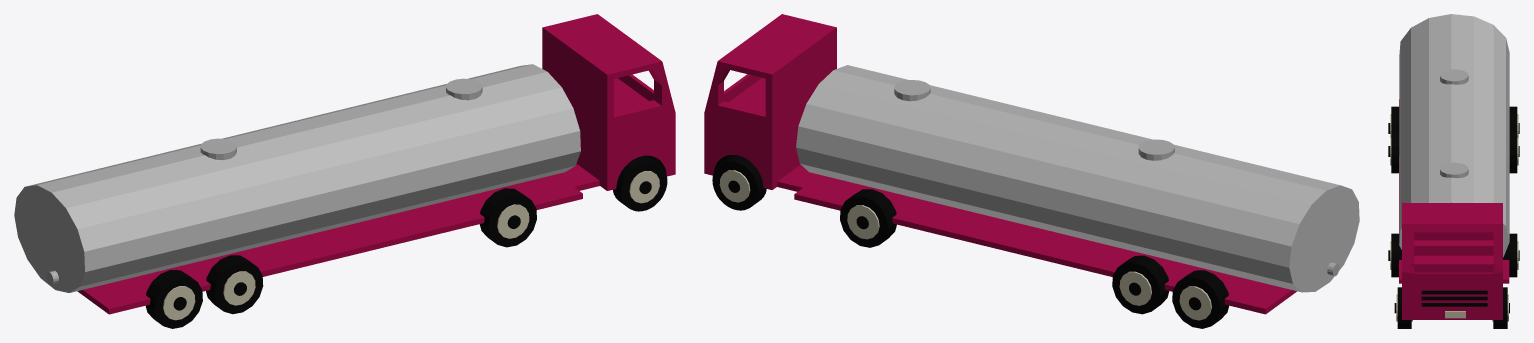
File: 油罐车.glb
3 renders of one model, left to right at view 1: azimuth 30°, elevation 25°; view 2: azimuth 150°, elevation 25°; view 3: azimuth 270°, elevation 25°, orthographic. The views are drawn at different scales.
Bounding box in the file's own units: 2.1 × 0.4749 × 0.5087.
